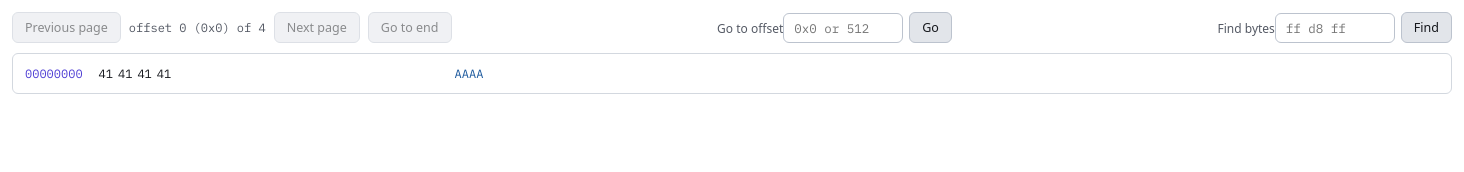
Scenario: HexTab byte-search honesty (B2-014) › says nothing extra when the whole file was searched
The width and height of the screenshot is (1464, 172).
Expected: the text "AAAA" is shown, x1=455 y1=64 x2=483 y2=83
Type "ff d8" into the field named "byte pattern" at (1335, 28), box x1=1275 y1=12 x2=1395 y2=42
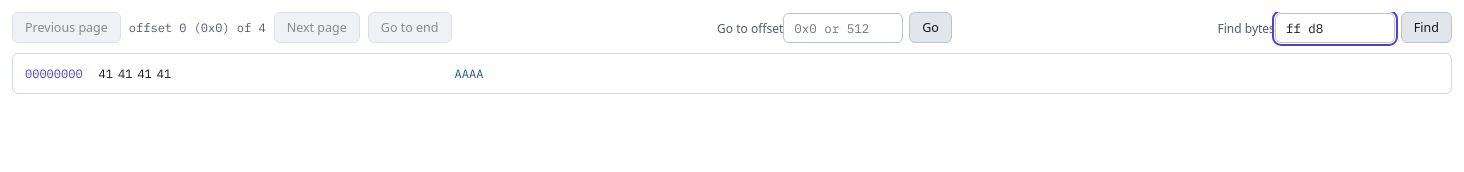
Click the button "Find" at (1426, 28), box x1=1401 y1=12 x2=1452 y2=43
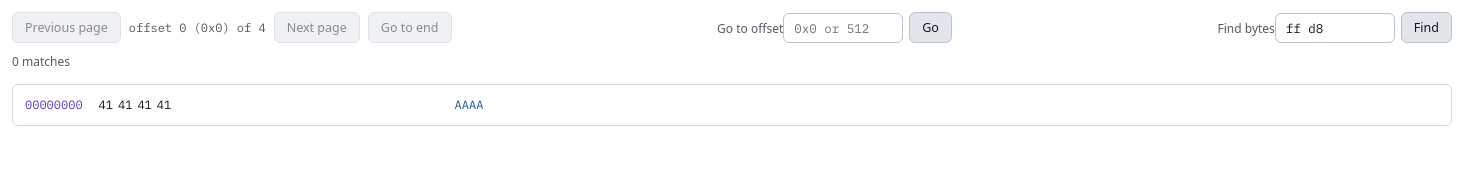
Result: the text "0 matches" is shown at x1=12 y1=53 x2=70 y2=70
